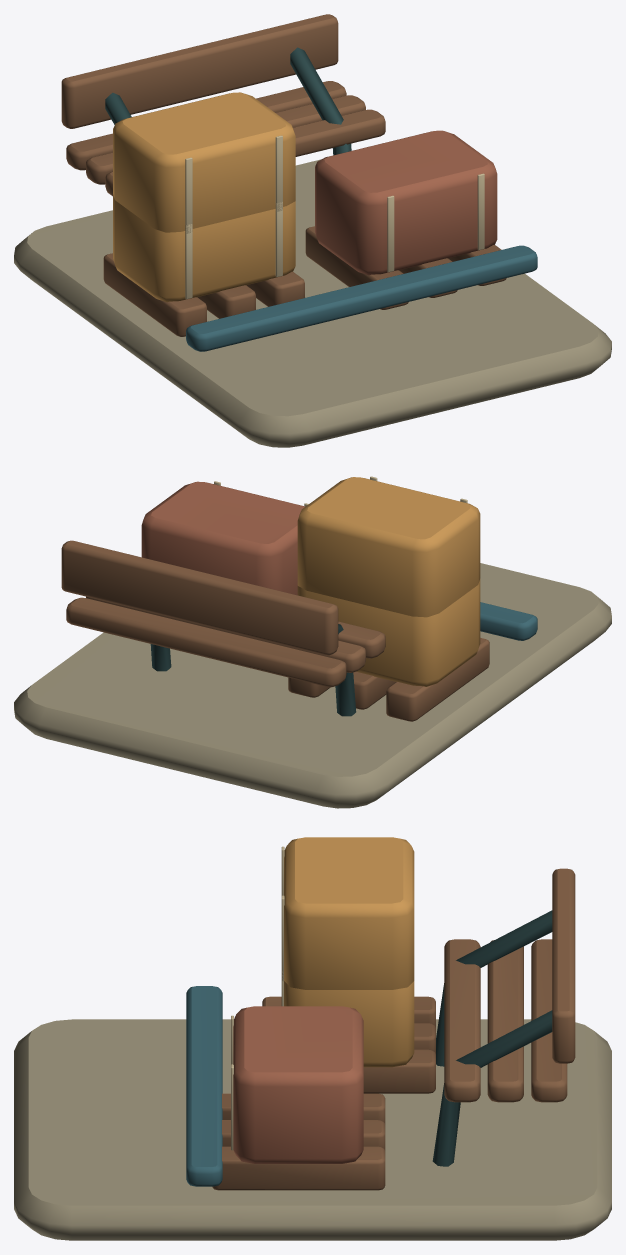
Rendered from harbor_distribution_1.glb.
3 views of the same model, one above another, from view 1: azimuth 30°, elevation 25°; view 2: azimuth 150°, elevation 25°; view 3: azimuth 270°, elevation 25° (orthographic). The views are drawn at different scales.
Visible parts, largest first — view 1: HarborDistribution1; view 2: HarborDistribution1; view 3: HarborDistribution1.
Boxes of the visible parts, x1,y1,x2,y2 form: HarborDistribution1: (14, 14, 611, 447); HarborDistribution1: (14, 476, 611, 808); HarborDistribution1: (14, 837, 611, 1240).
Size of the model in its own units: 1.95 by 1.04 by 2.48.
